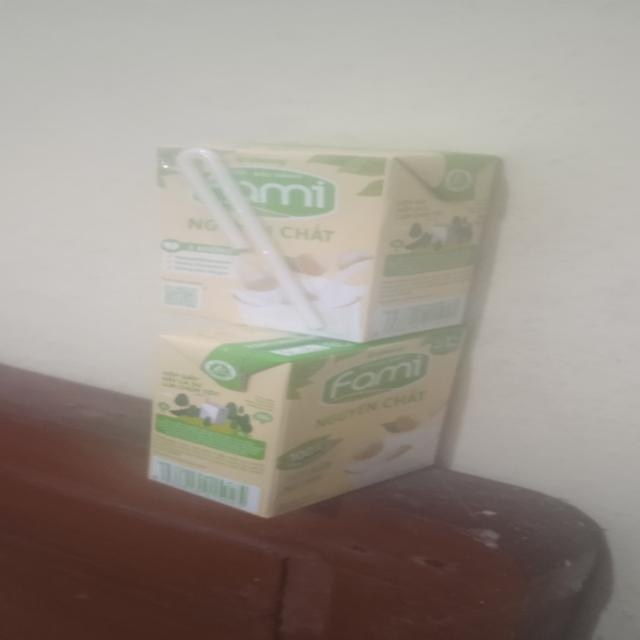Fami: (159, 140, 498, 342), (148, 324, 468, 521)
